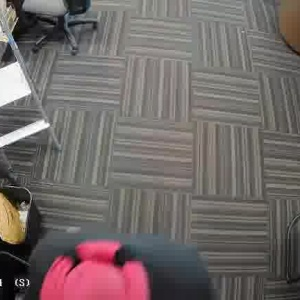person: (38, 226, 202, 298)
